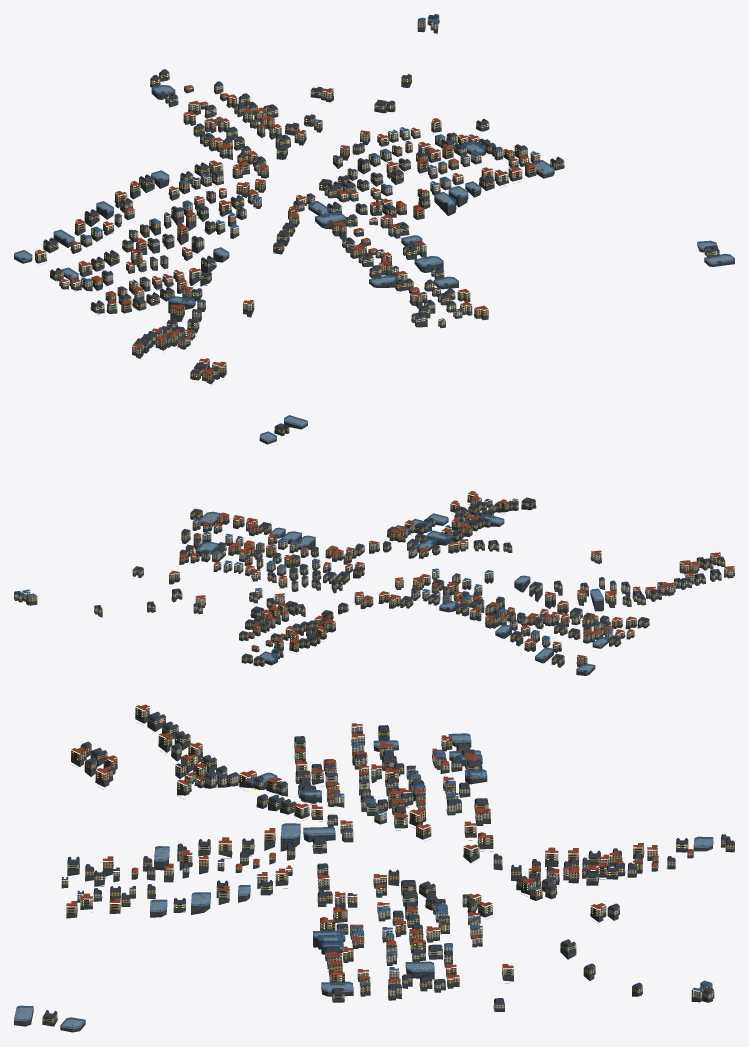
File: osm_buildings_T_W01_N02_Q3.glb
3 views of the same model, one above another, from view 1: azimuth 30°, elevation 25°; view 2: azimuth 150°, elevation 25°; view 3: azimuth 270°, elevation 25° (orthographic). The views are drawn at different scales.
Parts seen in each view (by area): view 1: OSM_T_W01_N02_Q3_foundation, OSM_T_W01_N02_Q3_wall_french_ochre, OSM_T_W01_N02_Q3_wall_cream_stucco, OSM_T_W01_N02_Q3_roof_mansard_slate, OSM_T_W01_N02_Q3_roof_terracotta, OSM_T_W01_N02_Q3_greenhouse_blend, OSM_T_W01_N02_Q3_roof_mansard_deck, OSM_T_W01_N02_Q3_wall_warm_white, OSM_T_W01_N02_Q3_roof_mint_metal, OSM_T_W01_N02_Q3_balcony_railing, OSM_T_W01_N02_Q3_wall_pastel_sand, OSM_T_W01_N02_Q3_roof_alpine_blue (+2 smaller); view 2: OSM_T_W01_N02_Q3_foundation, OSM_T_W01_N02_Q3_wall_french_ochre, OSM_T_W01_N02_Q3_wall_cream_stucco, OSM_T_W01_N02_Q3_roof_mansard_slate, OSM_T_W01_N02_Q3_roof_terracotta, OSM_T_W01_N02_Q3_greenhouse_blend, OSM_T_W01_N02_Q3_roof_mansard_deck, OSM_T_W01_N02_Q3_wall_warm_white, OSM_T_W01_N02_Q3_roof_mint_metal, OSM_T_W01_N02_Q3_trim_cornice, OSM_T_W01_N02_Q3_wall_pastel_sand, OSM_T_W01_N02_Q3_roof_alpine_blue (+1 smaller); view 3: OSM_T_W01_N02_Q3_foundation, OSM_T_W01_N02_Q3_wall_french_ochre, OSM_T_W01_N02_Q3_wall_cream_stucco, OSM_T_W01_N02_Q3_roof_mansard_slate, OSM_T_W01_N02_Q3_roof_terracotta, OSM_T_W01_N02_Q3_greenhouse_blend, OSM_T_W01_N02_Q3_roof_mansard_deck, OSM_T_W01_N02_Q3_roof_mint_metal, OSM_T_W01_N02_Q3_trim_cornice, OSM_T_W01_N02_Q3_wall_warm_white, OSM_T_W01_N02_Q3_roof_alpine_blue, OSM_T_W01_N02_Q3_wall_pastel_sand (+2 smaller).
Part boxes in pixels (x1,y1,x2,y2): OSM_T_W01_N02_Q3_foundation: (14, 20, 734, 384); OSM_T_W01_N02_Q3_wall_french_ochre: (35, 20, 719, 380); OSM_T_W01_N02_Q3_wall_cream_stucco: (69, 16, 529, 354); OSM_T_W01_N02_Q3_roof_mansard_slate: (43, 14, 719, 373); OSM_T_W01_N02_Q3_roof_terracotta: (35, 85, 535, 373); OSM_T_W01_N02_Q3_greenhouse_blend: (14, 85, 734, 304); OSM_T_W01_N02_Q3_roof_mansard_deck: (18, 14, 733, 371); OSM_T_W01_N02_Q3_wall_warm_white: (80, 103, 481, 328); OSM_T_W01_N02_Q3_roof_mint_metal: (35, 22, 719, 381); OSM_T_W01_N02_Q3_balcony_railing: (40, 25, 717, 380); OSM_T_W01_N02_Q3_wall_pastel_sand: (59, 21, 462, 318); OSM_T_W01_N02_Q3_roof_alpine_blue: (81, 17, 539, 281); OSM_T_W01_N02_Q3_foundation: (14, 420, 734, 675); OSM_T_W01_N02_Q3_wall_french_ochre: (26, 427, 725, 664); OSM_T_W01_N02_Q3_wall_cream_stucco: (14, 499, 734, 656); OSM_T_W01_N02_Q3_roof_mansard_slate: (14, 424, 724, 660); OSM_T_W01_N02_Q3_roof_terracotta: (169, 491, 734, 658); OSM_T_W01_N02_Q3_greenhouse_blend: (195, 415, 609, 672); OSM_T_W01_N02_Q3_roof_mansard_deck: (15, 421, 723, 672); OSM_T_W01_N02_Q3_wall_warm_white: (223, 512, 630, 645); OSM_T_W01_N02_Q3_roof_mint_metal: (15, 431, 731, 665); OSM_T_W01_N02_Q3_trim_cornice: (16, 429, 734, 663); OSM_T_W01_N02_Q3_wall_pastel_sand: (21, 501, 634, 649); OSM_T_W01_N02_Q3_roof_alpine_blue: (22, 518, 612, 639); OSM_T_W01_N02_Q3_foundation: (14, 714, 734, 1032); OSM_T_W01_N02_Q3_wall_french_ochre: (42, 728, 734, 1023); OSM_T_W01_N02_Q3_wall_cream_stucco: (67, 707, 714, 1008); OSM_T_W01_N02_Q3_roof_mansard_slate: (43, 712, 734, 1018); OSM_T_W01_N02_Q3_roof_terracotta: (66, 704, 693, 982); OSM_T_W01_N02_Q3_greenhouse_blend: (14, 733, 713, 1029); OSM_T_W01_N02_Q3_roof_mansard_deck: (14, 711, 733, 1027); OSM_T_W01_N02_Q3_roof_mint_metal: (43, 715, 732, 1023); OSM_T_W01_N02_Q3_trim_cornice: (43, 710, 734, 1020); OSM_T_W01_N02_Q3_wall_warm_white: (131, 744, 658, 962); OSM_T_W01_N02_Q3_roof_alpine_blue: (334, 742, 712, 991); OSM_T_W01_N02_Q3_wall_pastel_sand: (77, 725, 704, 998).
Size of the model in its own units: 980 by 107 by 954.
Materials: 16 (16 with a texture image).
